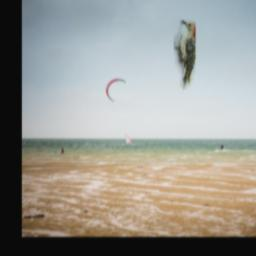Woodpecker: (174, 21, 195, 91)
